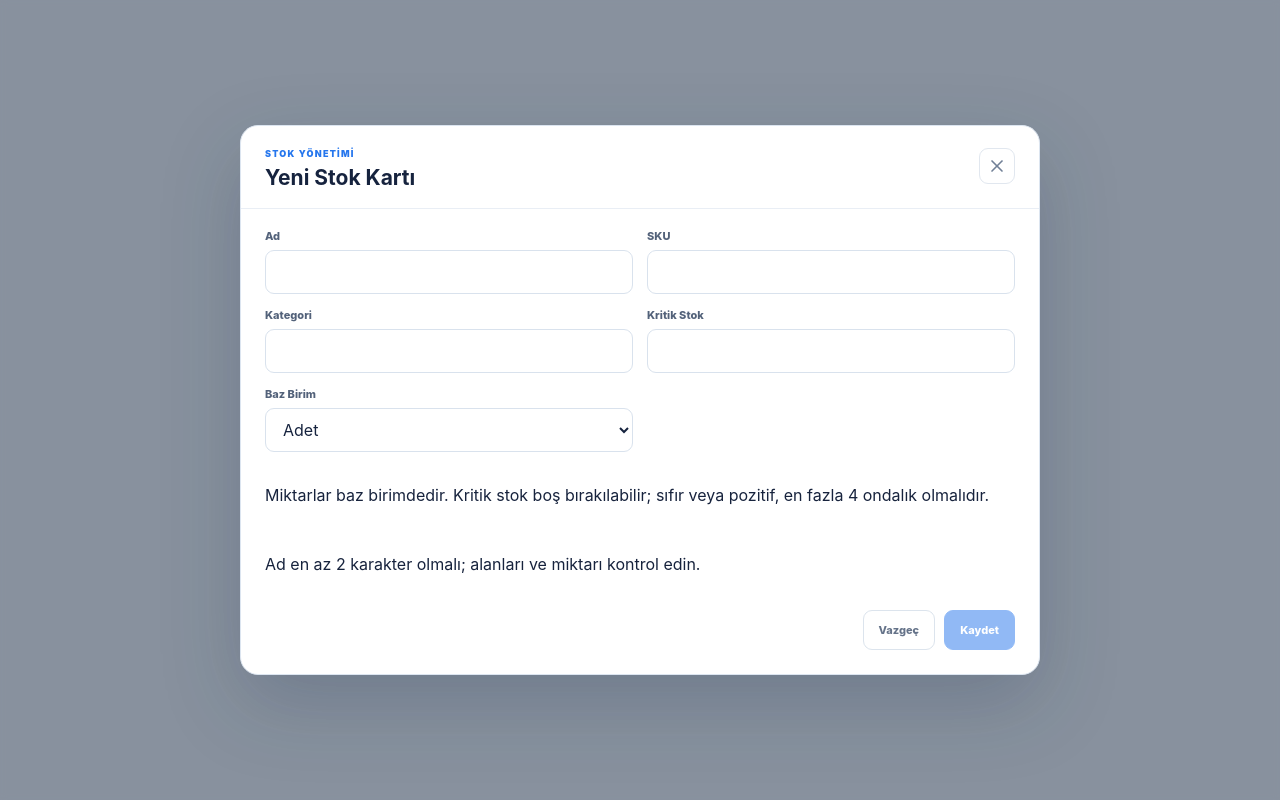
Test: item commands › blocks duplicate submit and close during pending item save
Type "Un" into the field labelled "Ad" at x=449, y=272, box [265,250,633,294]
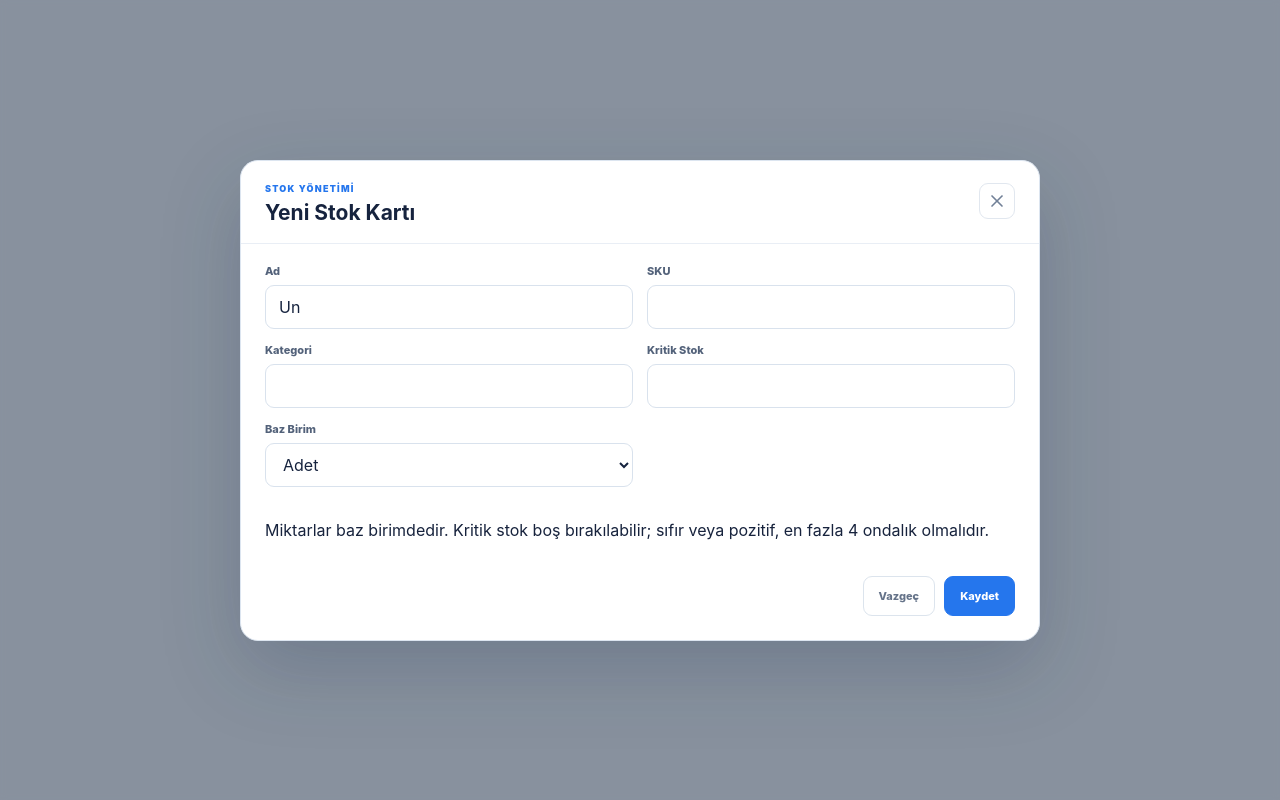
Submit the form named "Kaydet", box [241,244,1039,640]
Submit the form named "Kaydet", box [241,244,1039,640]
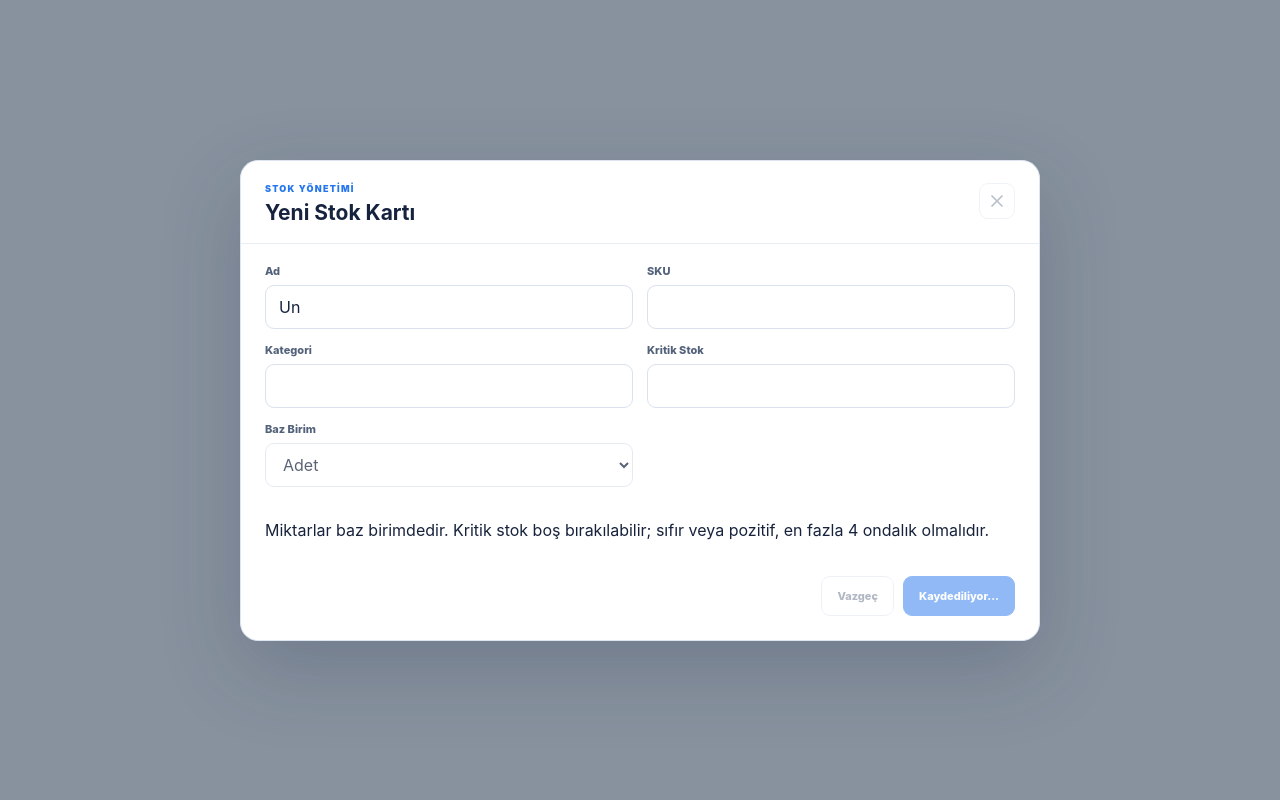
Check: the button named "Kapat" is disabled, box [979,182,1015,218]
